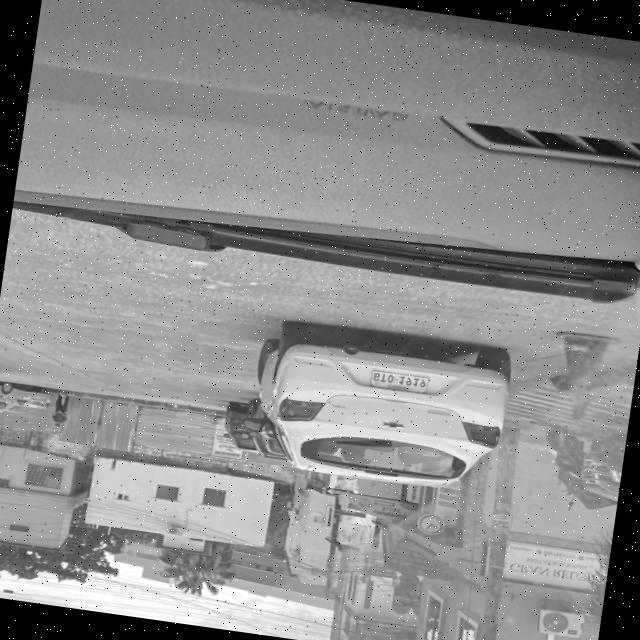Placa: (371, 370, 428, 392)
